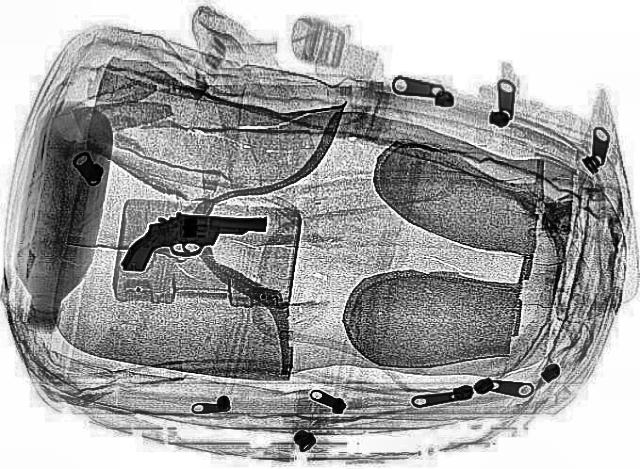Gun: (106, 201, 274, 271)
